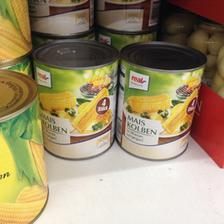Mais: (29, 36, 119, 160), (113, 40, 205, 160), (0, 68, 48, 223)
